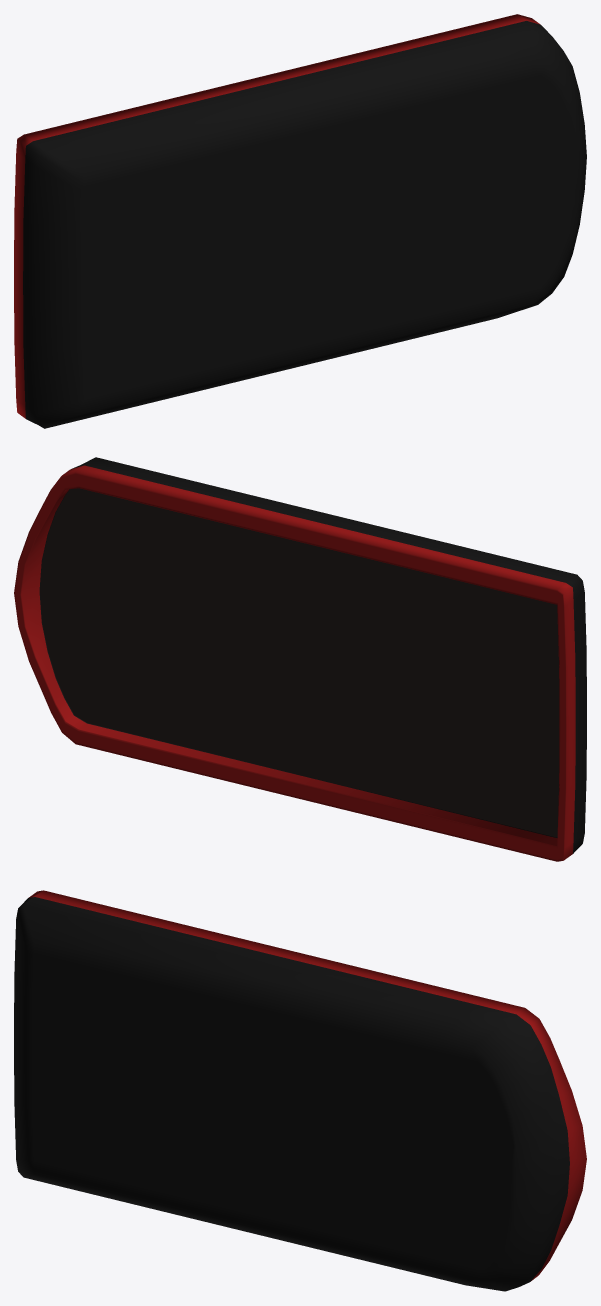
File: Ship 2x8.fbx
3 views of the same model, one above another, from view 1: azimuth 30°, elevation 25°; view 2: azimuth 150°, elevation 25°; view 3: azimuth 330°, elevation 25° (orthographic). The views are drawn at different scales.
Parts seen in each view (by area): view 1: Ship 2*8; view 2: Ship 2*8; view 3: Ship 2*8.
Boxes of the visible parts, x1,y1,x2,y2 form: Ship 2*8: (14, 14, 586, 428); Ship 2*8: (14, 457, 586, 861); Ship 2*8: (14, 890, 586, 1291).
Bounding box in the file's own units: 1336 × 144 × 629.
